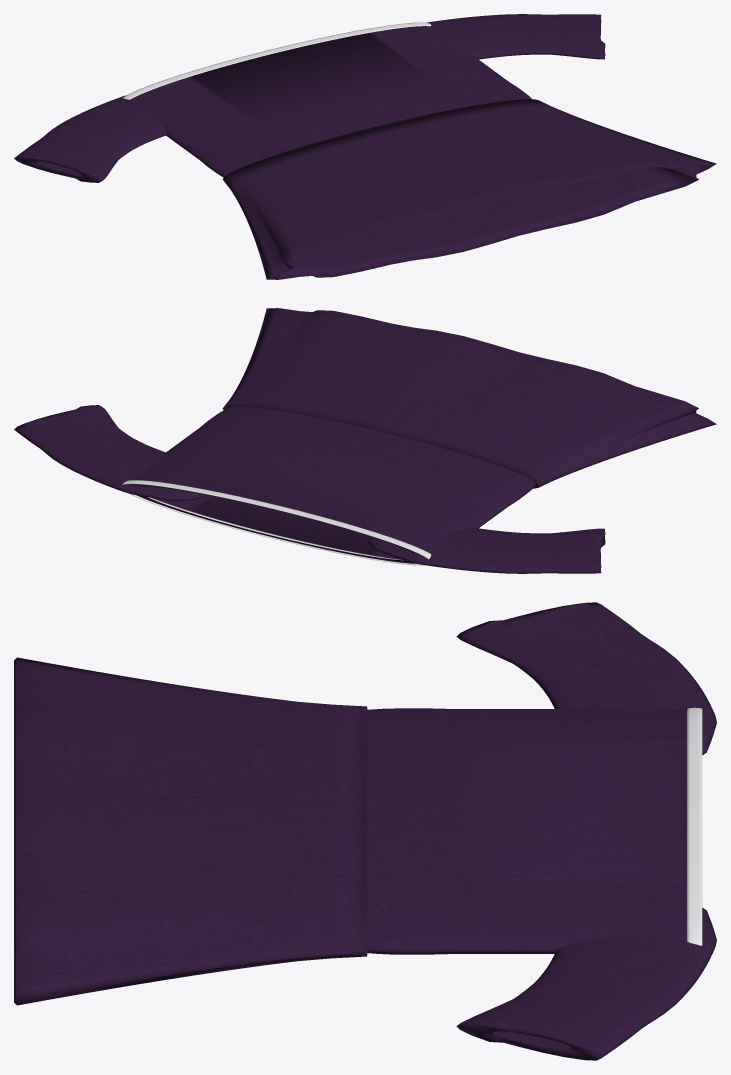
The model's file is abaya3.fbx.
3 renders of one model, top to bottom at view 1: azimuth 30°, elevation 25°; view 2: azimuth 150°, elevation 25°; view 3: azimuth 270°, elevation 25°, orthographic. The views are drawn at different scales.
Visible parts, largest first — view 1: abaya3; view 2: abaya3; view 3: abaya3.
Part boxes in pixels (<box>): abaya3: <box>14,14,716,279</box>; abaya3: <box>14,308,716,573</box>; abaya3: <box>14,602,716,1060</box>.
Size of the model in its own units: 1.62 by 0.1207 by 1.06.
2 materials, 1 textured.
